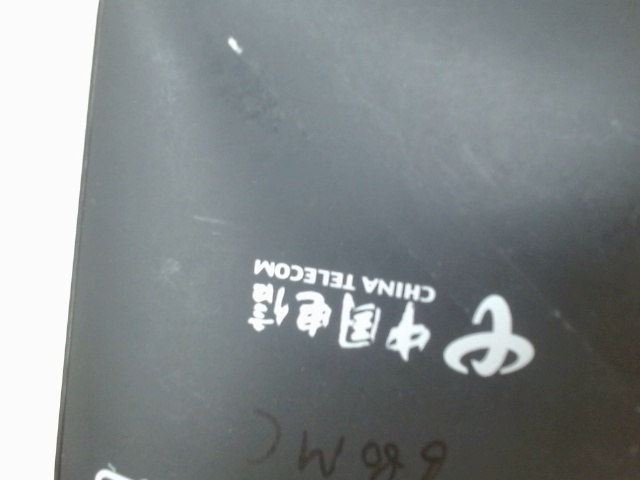AB_ChinaTelecom: (229, 239, 563, 385)
